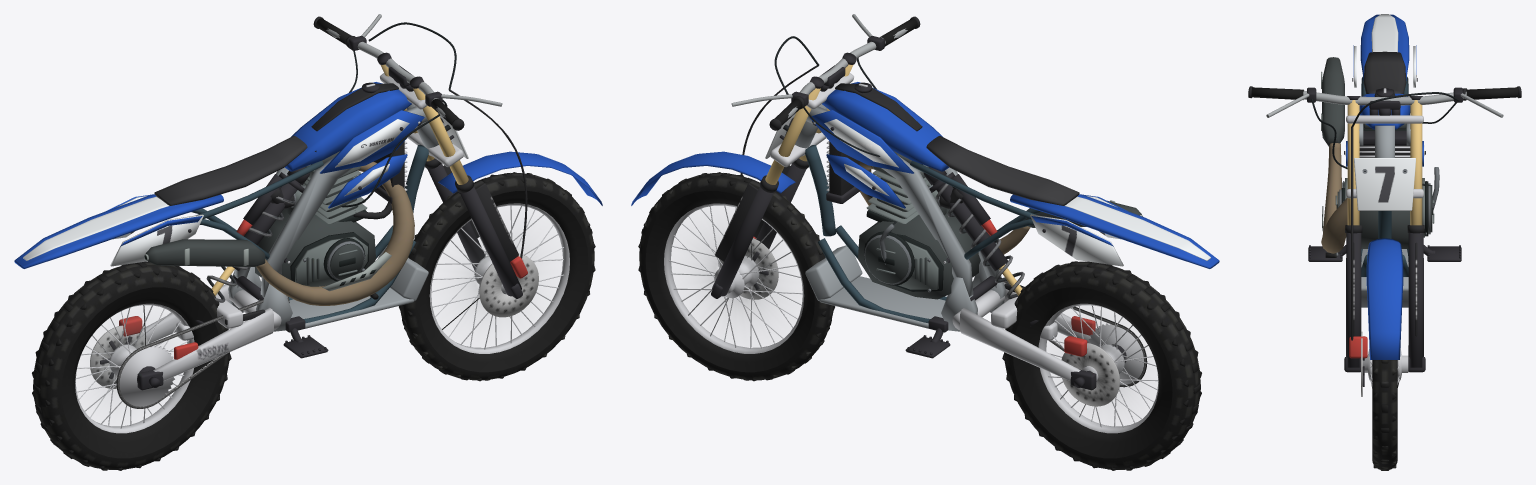
File: street01-bike-paint.glb
3 renders of one model, left to right at view 1: azimuth 30°, elevation 25°; view 2: azimuth 150°, elevation 25°; view 3: azimuth 270°, elevation 25°, orthographic. The views are drawn at different scales.
Parts seen in each view (by area): view 1: wheel_rear, bodywork, wheel_front, frame, exhaust, engine, fork_lower, swingarm, handlebar, fork_upper, sprocket_rear, shock_body (+7 smaller); view 2: wheel_rear, bodywork, wheel_front, frame, engine, fork_lower, swingarm, handlebar, wheel_front_blur, fork_upper, wheel_front_spokes, shock_body (+6 smaller); view 3: fork_lower, fork_upper, bodywork, handlebar, exhaust, wheel_front, frame, engine, pegs, brake_hose.
Part boxes in pixels (x1,y1,x2,y2): wheel_rear: (32, 261, 231, 470); bodywork: (14, 82, 424, 268); wheel_front: (398, 172, 595, 381); frame: (191, 104, 438, 332); exhaust: (144, 161, 414, 305); engine: (255, 150, 378, 299); fork_lower: (425, 151, 602, 298); swingarm: (119, 281, 281, 390); handlebar: (313, 14, 502, 207); fork_upper: (377, 52, 468, 184); sprocket_rear: (119, 345, 174, 406); shock_body: (232, 167, 310, 271); wheel_rear: (1002, 261, 1201, 470); bodywork: (809, 82, 1219, 268); wheel_front: (638, 172, 835, 381); frame: (795, 104, 1042, 332); engine: (858, 151, 980, 299); fork_lower: (631, 151, 808, 298); swingarm: (952, 282, 1096, 390); handlebar: (731, 14, 922, 235); wheel_front_blur: (695, 232, 777, 321); fork_upper: (765, 52, 856, 184); wheel_front_spokes: (668, 205, 802, 348); shock_body: (923, 167, 1007, 271); fork_lower: (1344, 225, 1425, 372); fork_upper: (1346, 96, 1423, 225); bodywork: (1344, 14, 1425, 166); handlebar: (1248, 86, 1521, 185); exhaust: (1321, 57, 1360, 253); wheel_front: (1361, 331, 1408, 470); frame: (1359, 77, 1410, 307); engine: (1325, 123, 1439, 257); pegs: (1308, 245, 1461, 261); brake_hose: (1351, 127, 1353, 340).
Size of the model in its own units: 2.06 by 1.2 by 0.875.
Materials: 15 (6 with a texture image).
